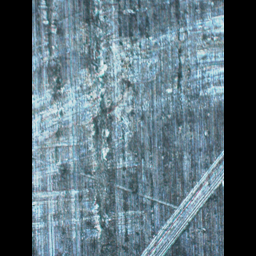d: (32, 4, 223, 155), (137, 147, 223, 256)
